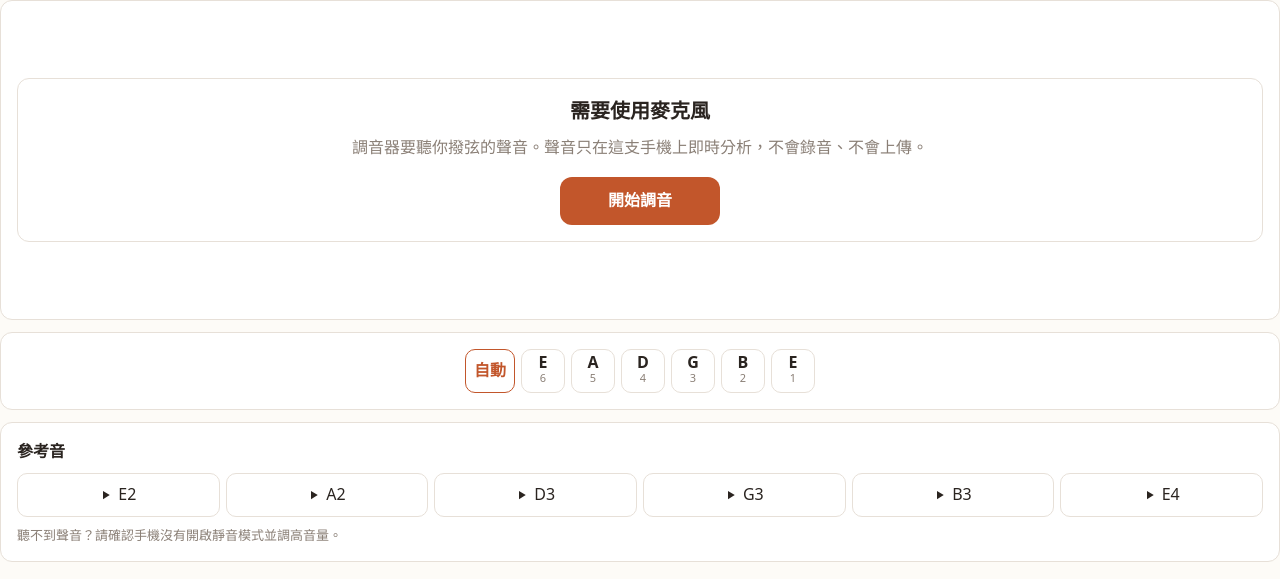
Test: TunerPanel phases (TUN-50–59) › NotAllowedError shows its copy, retry and reference tones
Click the button with test id "tuner-start" at (640, 201), box [560,177,720,225]
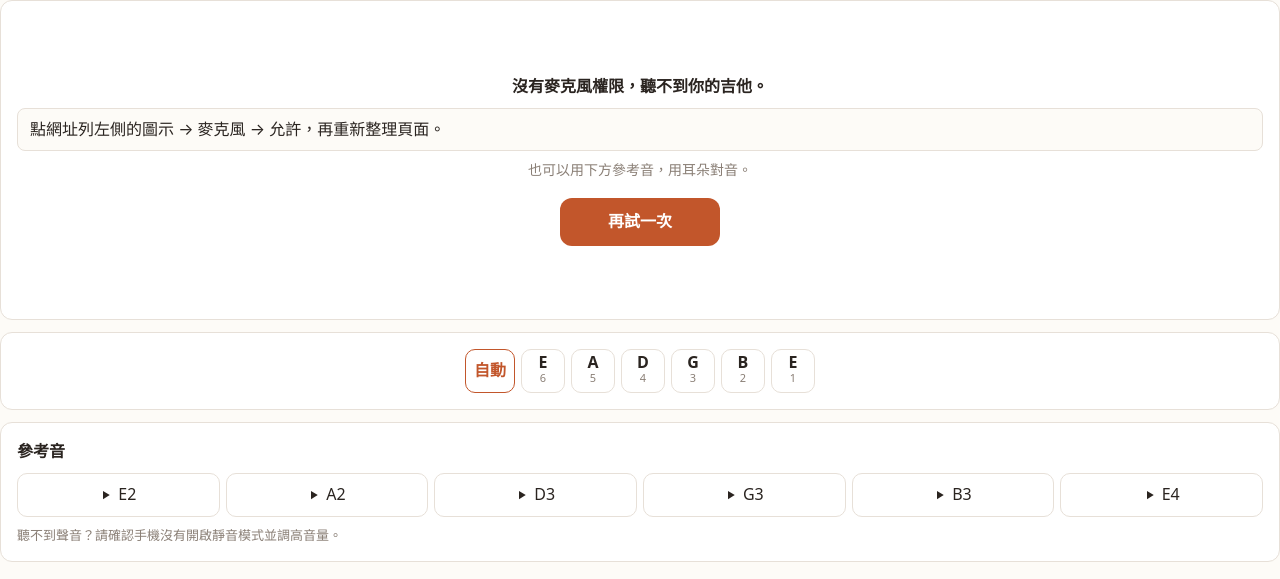
Expected: the element with test id "tuner-reference" is shown, [17,439,1263,545]
Now the text "沒有麥克風權限，聽不到你的吉他。" is shown, box [512,75,768,97]
Now the button with test id "tuner-retry" reads "再試一次", box [560,198,720,246]
